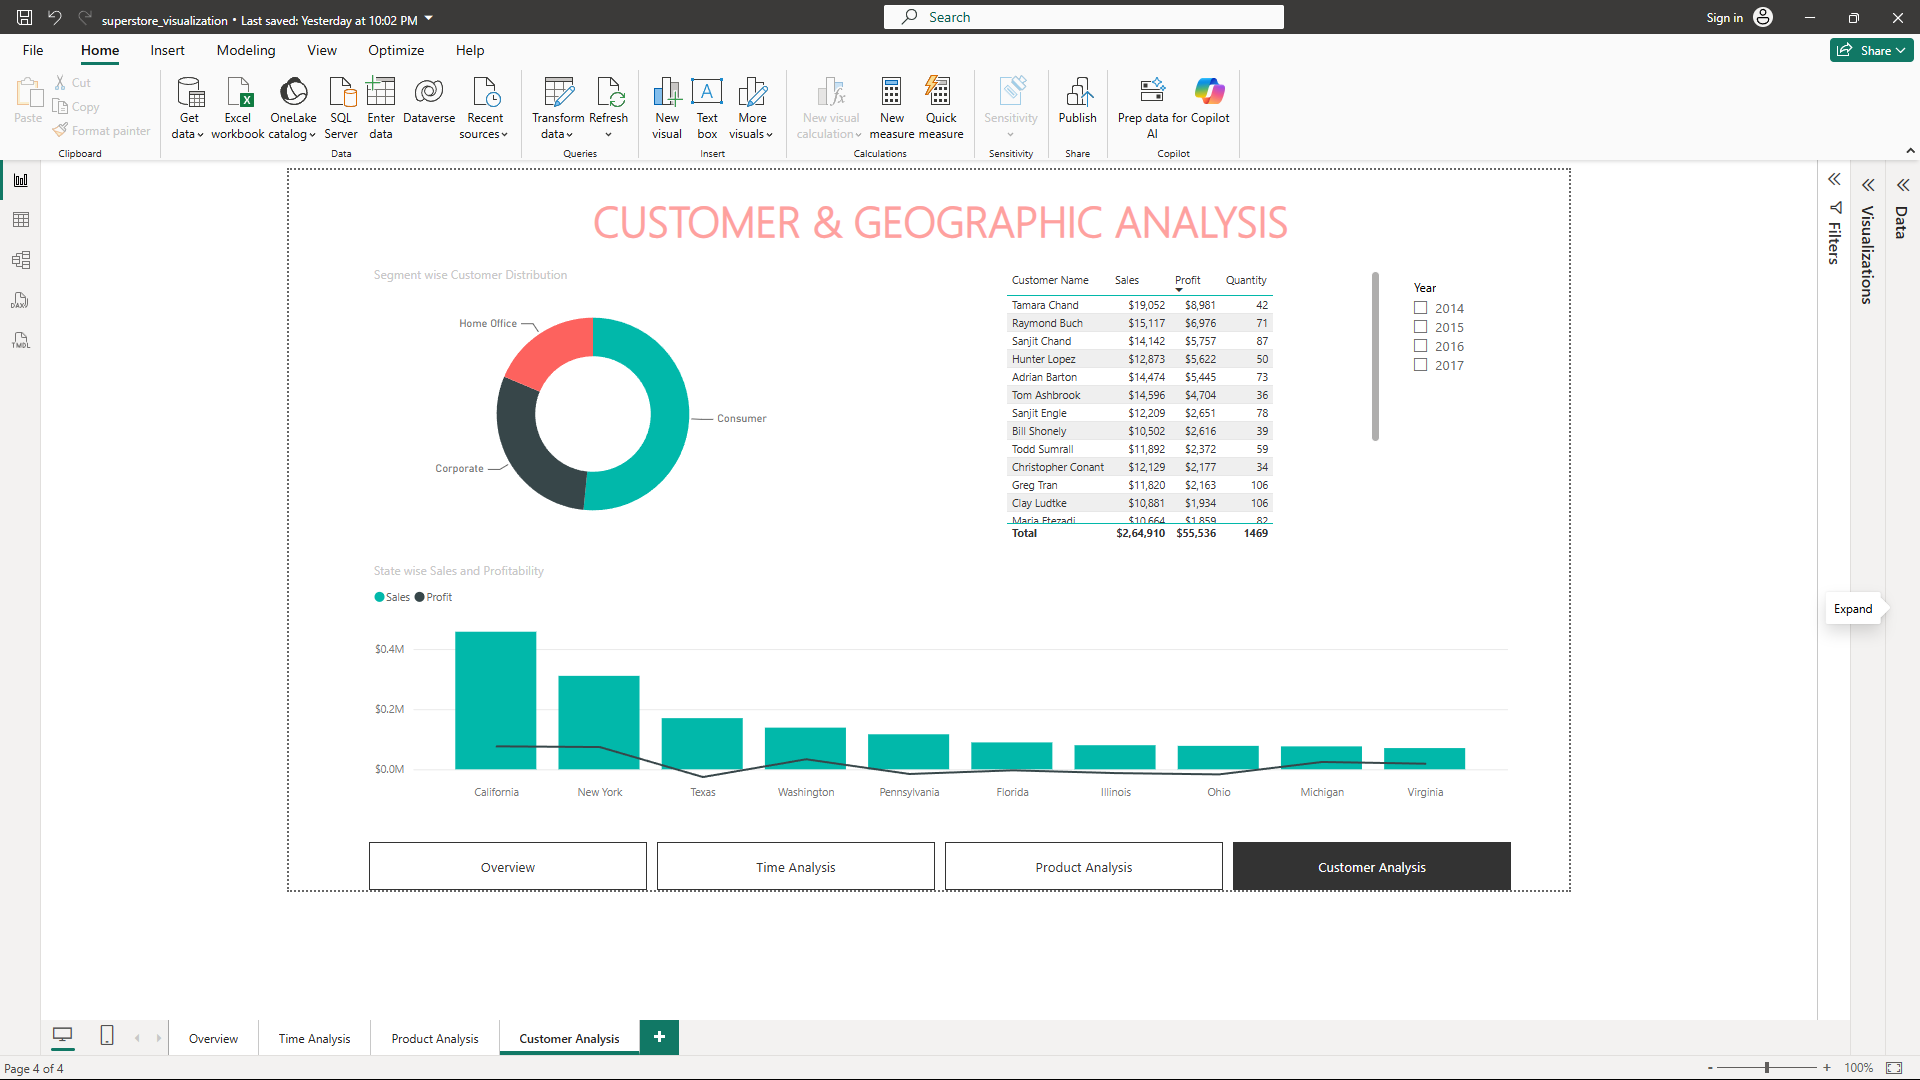

The dashboard page shown, as its layout file describes it:
{"tool":"powerbi","page":{"name":"Customer Analysis","canvas":[1280,720],"ordinal":3},"visuals":[{"type":"donutChart","title":"Segment wise Customer Distribution","fields":{"Category":["dim_customer.segment"],"Y":["Count(dim_customer.customer_id)"]},"box":[80,96,448,280],"z":0},{"type":"lineClusteredColumnComboChart","title":"State wise Sales and Profitability","fields":{"Category":["fact_sales.state"],"Y":["Sum(fact_sales.sales)"],"Y2":["Sum(fact_sales.profit)"]},"box":[80,392,1144,248],"z":1000},{"type":"tableEx","fields":{"Values":["dim_customer.customer_name","Sum(fact_sales.sales)","Sum(fact_sales.profit)","Sum(fact_sales.quantity)"]},"box":[712,96,384,280],"z":2000},{"type":"slicer","fields":{"Values":["dim_date.Year"]},"box":[1112,104,112,120],"z":3000},{"type":"textbox","box":[80,16,1144,72],"z":4000},{"type":"pageNavigator","box":[80,672,1144,48],"z":4001}]}

Visuals, with their boxes on the page's 1280x720 design canvas (x1, y1, x2, y2). These are canvas units, not pixel positions in the 1920x1080 screenshot, which may show the page scaled, cropped or inside an application window:
"Segment wise Customer Distribution" donutChart: [80, 96, 528, 376]
"State wise Sales and Profitability" lineClusteredColumnComboChart: [80, 392, 1224, 640]
tableEx - dim_customer.customer_name x Sum(fact_sales.sales): [712, 96, 1096, 376]
slicer - dim_date.Year: [1112, 104, 1224, 224]
textbox: [80, 16, 1224, 88]
pageNavigator: [80, 672, 1224, 720]
